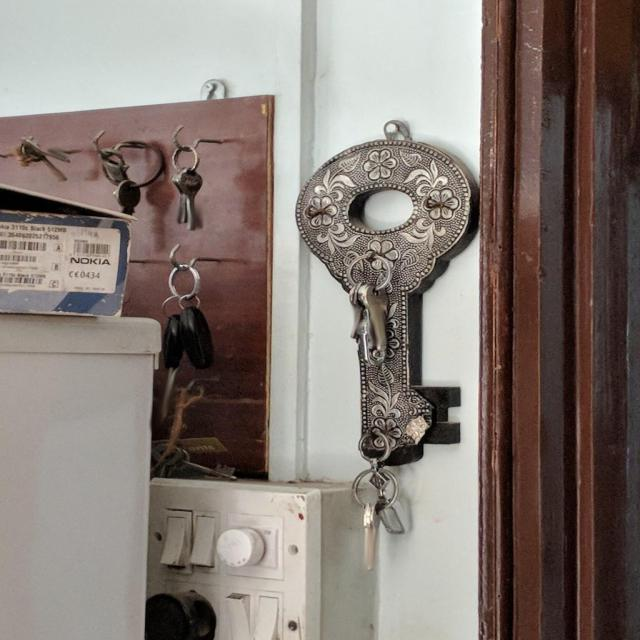Frontdoor keys: (328, 261, 400, 362), (342, 488, 403, 584), (168, 157, 222, 234), (151, 442, 238, 483)
